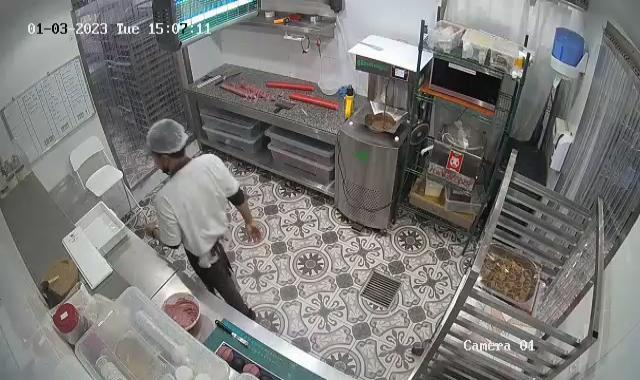hairnet: (146, 118, 189, 161)
